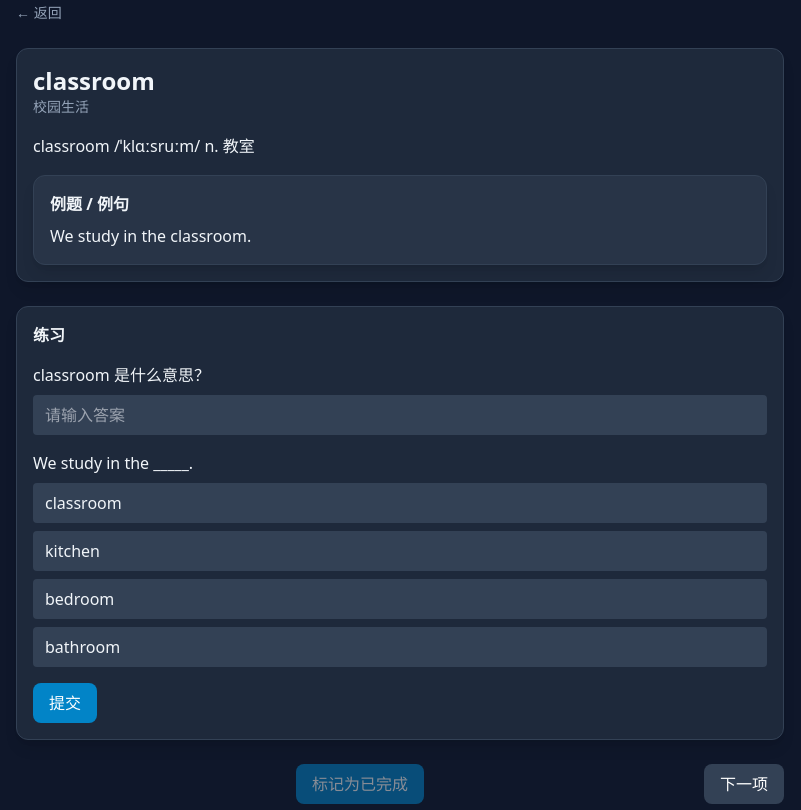
Scenario: LearningPage › renders content and allows completion
Expected: the heading "classroom" is shown, [33,64,155,97]
# Answer the fill-in exercise: type "教室"
Type "教室" into the field with placeholder "请输入答案" at (400, 415), box [33,395,767,435]
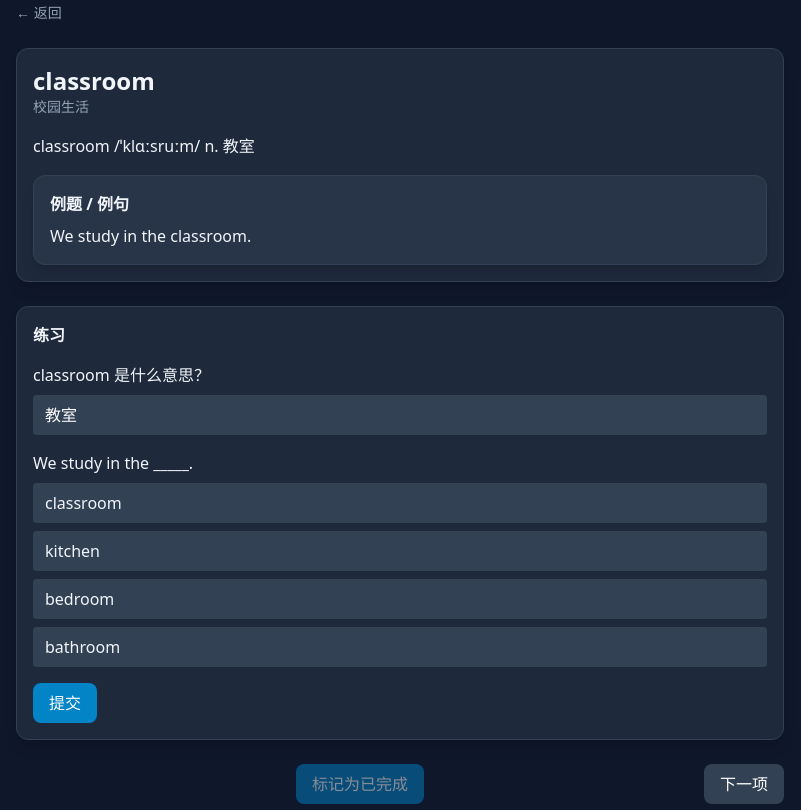
# The second occurrence is the choice option button (first is the h1 title)
Click the button "classroom" at (83, 503), box [33,483,767,523]
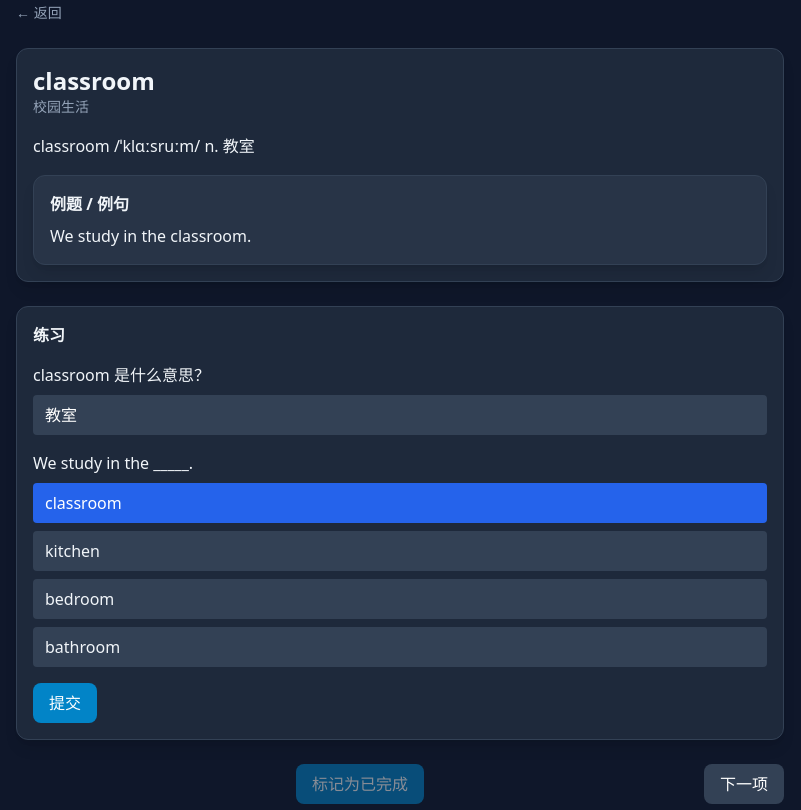
# Submit exercises
Click the button "提交" at (65, 703), box [33,683,97,723]
(page scrolled)
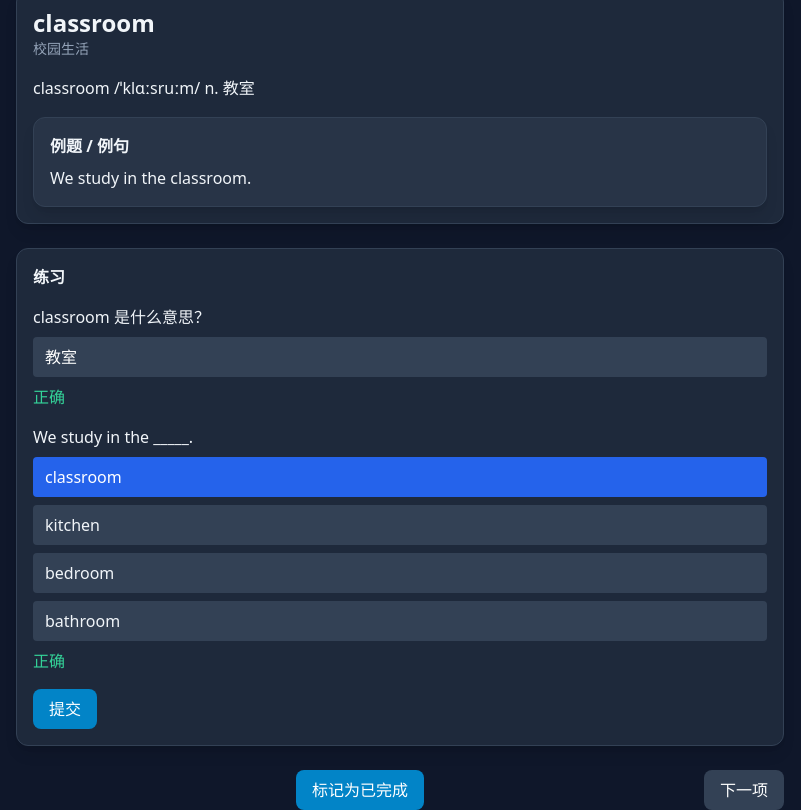
Now the button "标记为已完成" is enabled, box [296,770,424,809]
